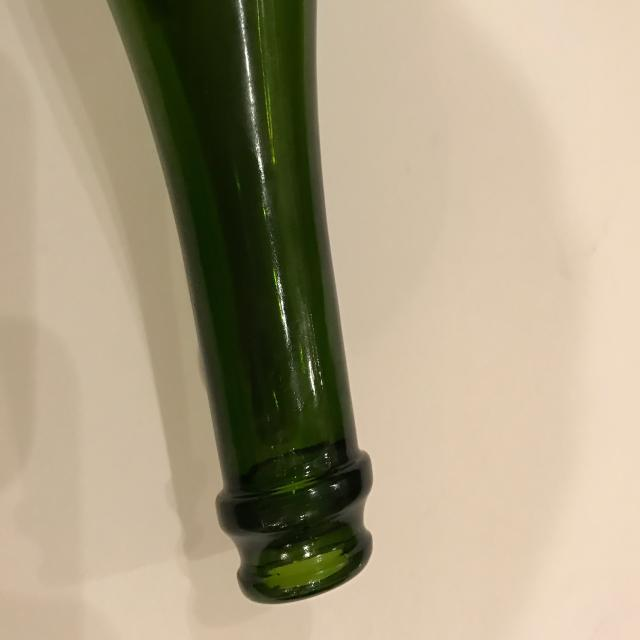glass: (106, 1, 377, 612)
